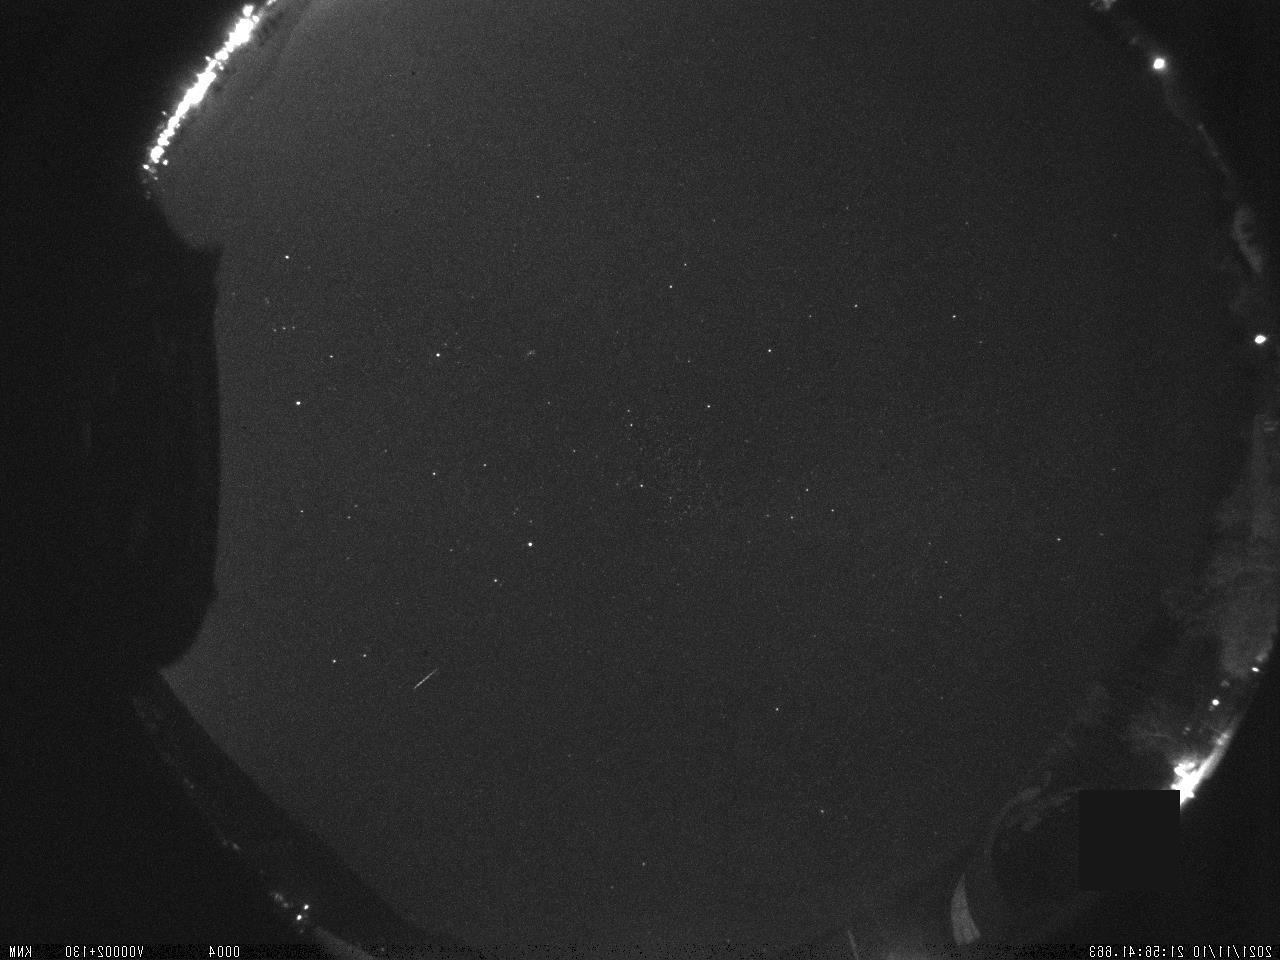meteor: (413, 657, 444, 699)
